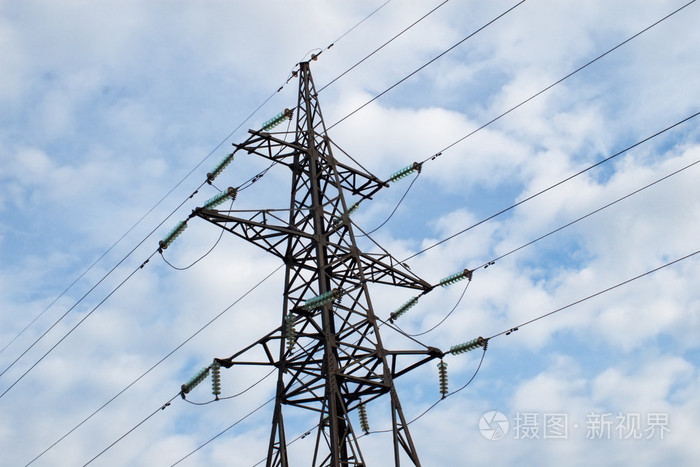insulator: (303, 286, 336, 307), (162, 219, 184, 250), (183, 368, 208, 394), (392, 296, 421, 316), (436, 362, 452, 397), (450, 337, 483, 353), (202, 193, 232, 210), (213, 153, 232, 178), (264, 110, 289, 129), (210, 362, 223, 398), (390, 164, 417, 180), (441, 270, 470, 284), (358, 404, 370, 433)
